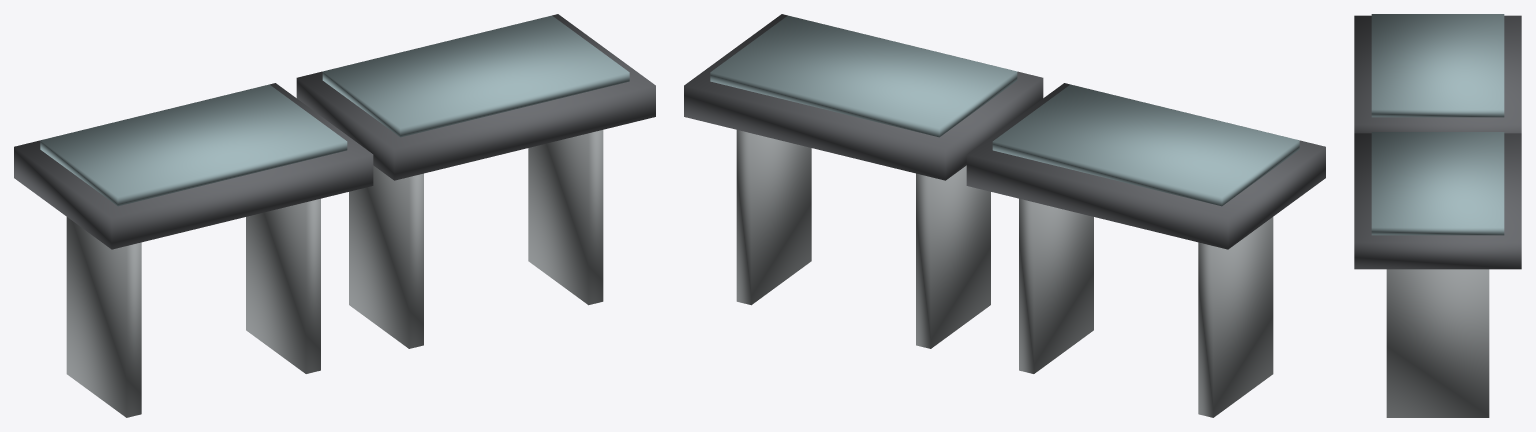
File: light_table__cluster.glb
3 views of the same model, side by side, from view 1: azimuth 30°, elevation 25°; view 2: azimuth 150°, elevation 25°; view 3: azimuth 270°, elevation 25° (orthographic). The views are drawn at different scales.
Visible parts, largest first — view 1: world; view 2: world; view 3: world.
Boxes of the visible parts, bbox=[...] form: world: bbox=[14, 14, 655, 417]; world: bbox=[684, 14, 1325, 417]; world: bbox=[1354, 14, 1521, 417].
Size of the model in its own units: 2.18 by 0.8875 by 0.68.
